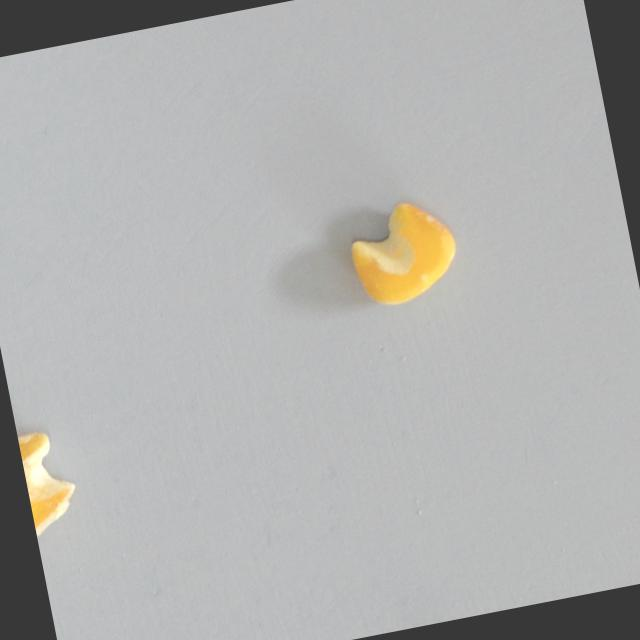no_canjicado: (341, 190, 466, 312)
pelicula: (16, 424, 84, 540)
